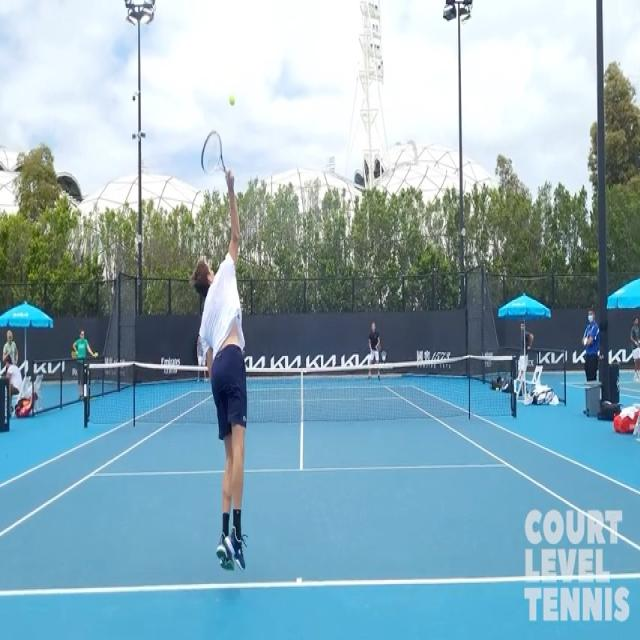serve_hit: (158, 131, 284, 566)
